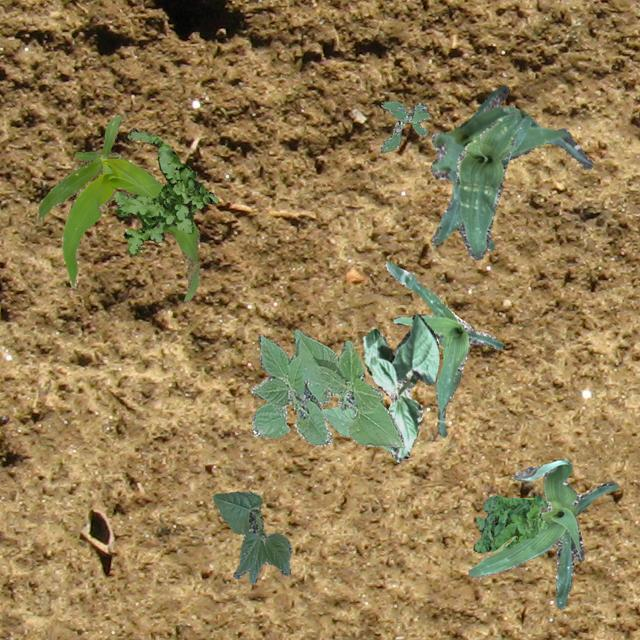crop: (35, 114, 198, 300), (430, 84, 592, 250), (468, 458, 618, 608), (384, 260, 504, 436), (250, 328, 404, 446), (432, 110, 530, 258), (362, 313, 438, 462), (212, 490, 290, 582), (320, 406, 408, 458)
weed: (114, 126, 216, 255), (472, 493, 548, 552), (379, 100, 428, 152)
